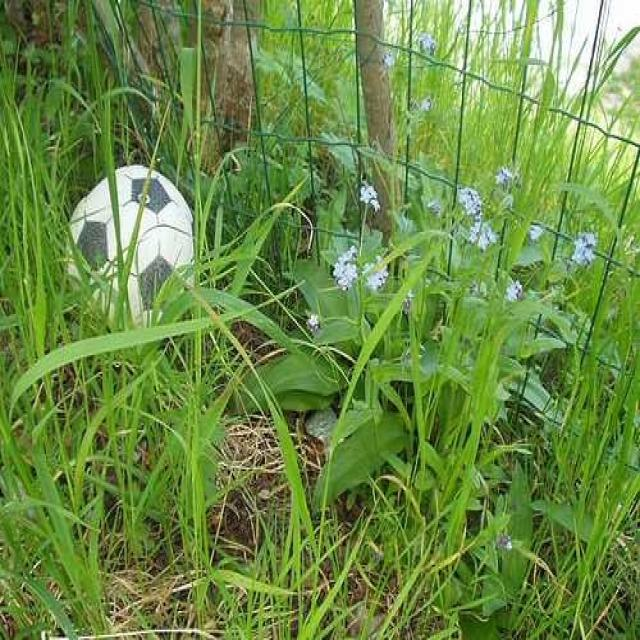ball: (62, 164, 199, 340)
